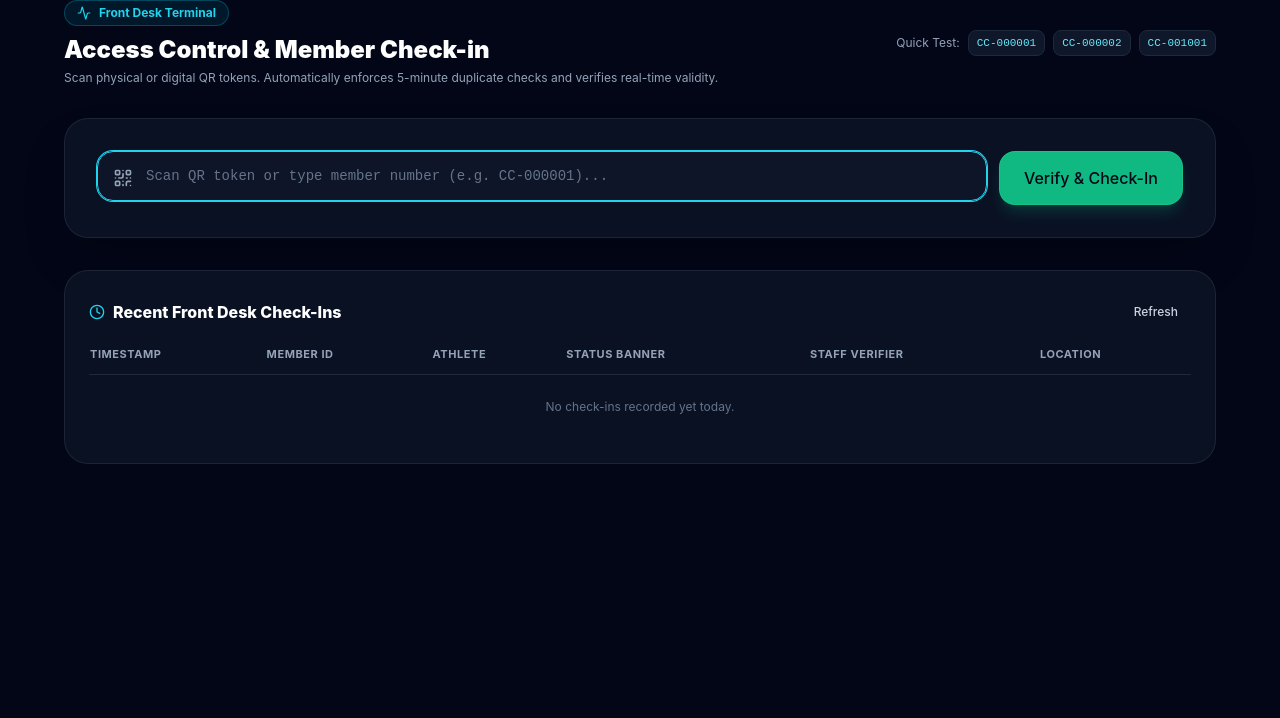
Membership Lifecycle & Notifications Components › FrontDeskCheckInPage Component › displays GREEN ACTIVE banner on valid member check-in
The width and height of the screenshot is (1280, 718).
Type "CC-001000" into the field with placeholder "Scan QR token or type member number (e.g. CC-000001)...".
click(542, 176); type("CC-001000")  # box [97,151,987,201]
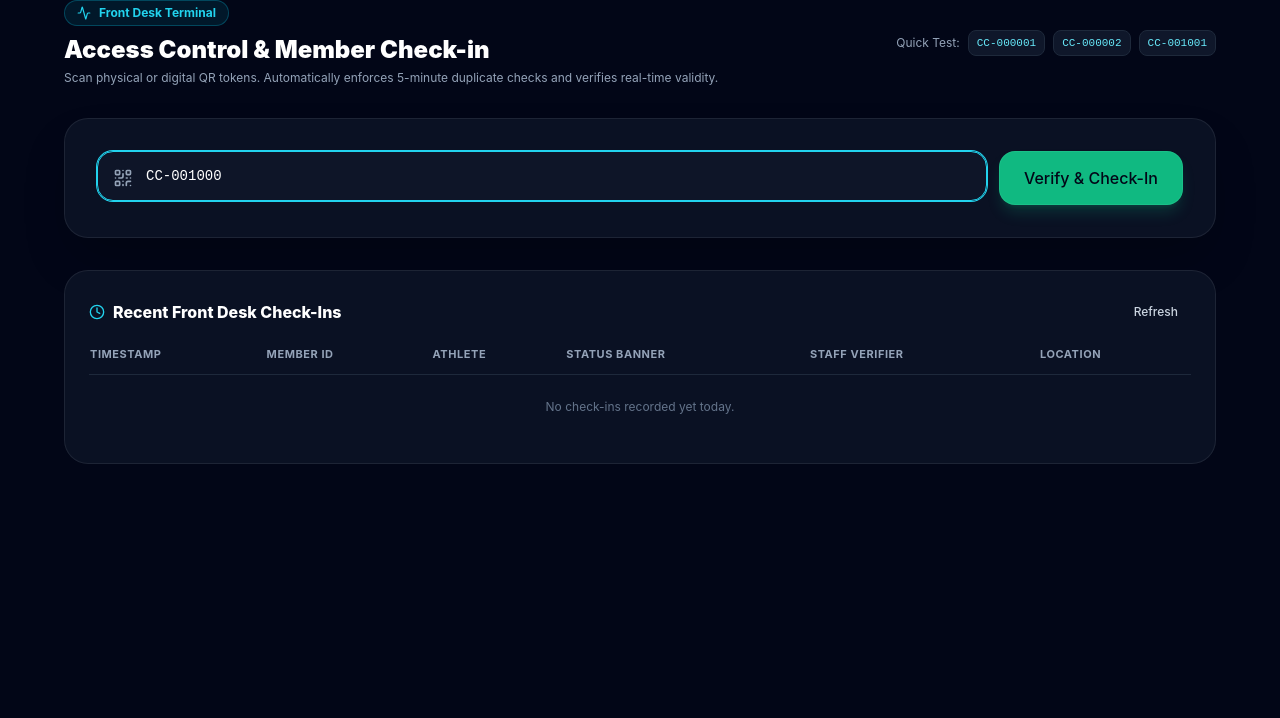
Submit the form with placeholder "Scan QR token or type member number", box [97,151,1183,205]
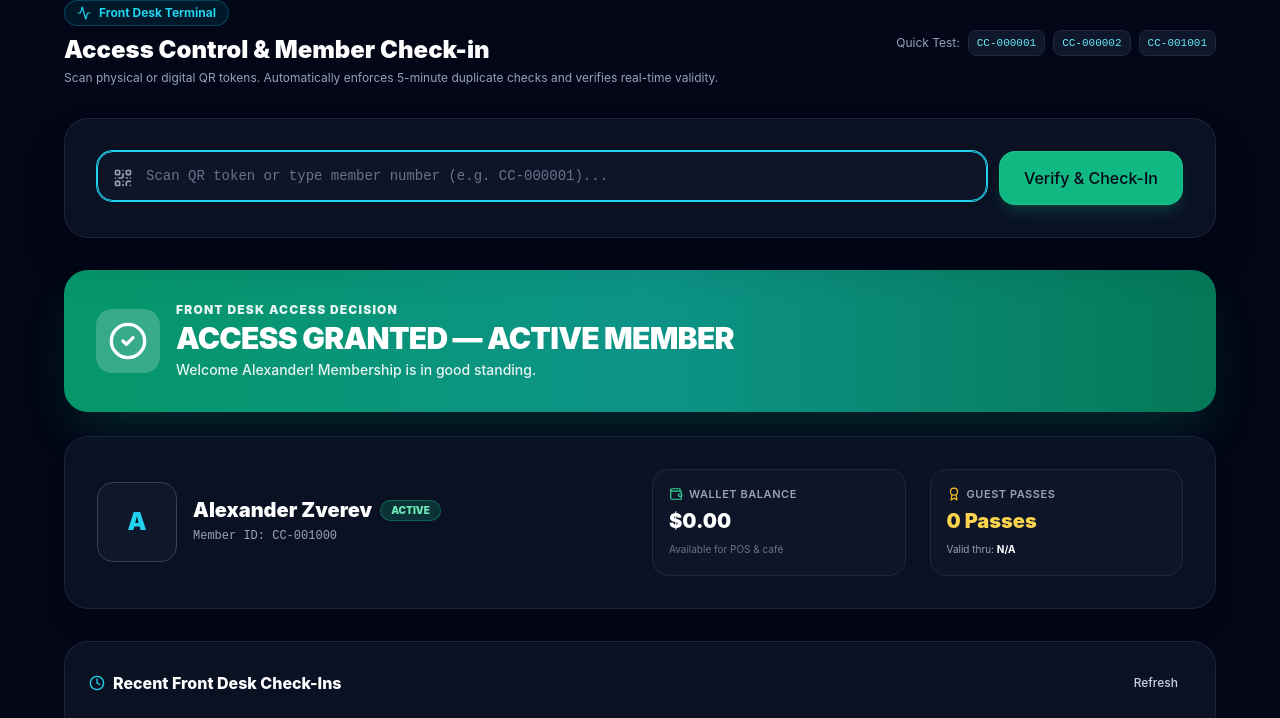
Expected: the heading "ACCESS GRANTED — ACTIVE MEMBER" is shown, [176,320,734,356]
Expected: the heading "Alexander Zverev" is shown, [193,496,372,524]
